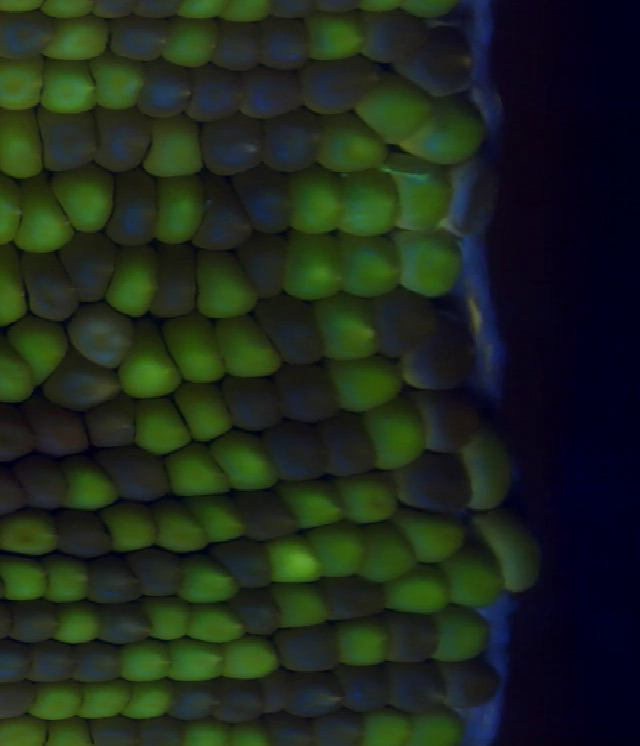fluorescent: (378, 163, 455, 226), (12, 175, 71, 255), (487, 513, 545, 591), (468, 424, 515, 517), (362, 79, 425, 145), (330, 173, 396, 236), (188, 250, 251, 316), (415, 101, 486, 159), (212, 433, 278, 491), (283, 242, 348, 298), (345, 233, 403, 295), (148, 113, 199, 181), (406, 514, 473, 565), (325, 360, 406, 402), (323, 298, 377, 360), (403, 233, 457, 295), (59, 166, 109, 231), (216, 313, 270, 373), (170, 321, 220, 385), (168, 450, 228, 500), (122, 333, 168, 397), (102, 502, 154, 558), (0, 331, 35, 413), (355, 529, 416, 576), (136, 397, 190, 450), (0, 108, 42, 176), (365, 410, 422, 459), (293, 172, 338, 234), (444, 553, 503, 600), (110, 249, 152, 313), (386, 573, 451, 614), (38, 56, 90, 107), (90, 60, 146, 107), (3, 510, 55, 559), (275, 582, 329, 629), (194, 497, 249, 543), (310, 530, 362, 578), (117, 636, 174, 679), (22, 318, 59, 384), (187, 387, 229, 445), (61, 458, 107, 510), (317, 124, 377, 163), (281, 485, 345, 521), (154, 176, 194, 233), (159, 505, 203, 556), (191, 558, 239, 604), (55, 18, 104, 63), (438, 610, 487, 655), (345, 478, 396, 521), (0, 556, 44, 605), (174, 640, 232, 676), (44, 558, 88, 604), (306, 18, 359, 56), (409, 711, 465, 746), (168, 21, 210, 66), (193, 604, 241, 643), (36, 682, 80, 723), (80, 685, 130, 721), (52, 602, 97, 642), (230, 640, 280, 676), (0, 65, 41, 108), (148, 597, 188, 640), (362, 710, 410, 745), (341, 626, 384, 665), (267, 539, 313, 575), (128, 681, 170, 718), (45, 716, 90, 746), (184, 720, 230, 746), (232, 721, 274, 746), (0, 718, 33, 746)
nonfluorescent: (65, 301, 132, 371), (400, 334, 477, 392), (407, 27, 480, 88), (259, 297, 325, 362), (39, 102, 102, 168), (402, 458, 471, 516), (62, 240, 122, 304), (264, 423, 333, 478), (154, 243, 199, 320), (102, 102, 151, 171), (204, 114, 268, 165), (377, 292, 430, 353), (420, 389, 475, 447), (306, 63, 373, 110), (436, 658, 496, 710), (278, 365, 338, 417), (238, 171, 290, 229), (330, 416, 378, 478), (87, 397, 141, 452), (268, 114, 322, 169), (222, 376, 281, 426), (238, 233, 284, 297), (188, 185, 236, 246), (104, 18, 170, 62), (386, 666, 446, 714), (29, 405, 90, 452), (358, 13, 420, 58), (0, 11, 59, 58), (112, 173, 154, 237), (241, 68, 300, 113), (29, 250, 68, 318), (49, 368, 115, 408), (336, 662, 386, 714), (88, 558, 142, 605), (103, 452, 162, 495), (333, 581, 391, 624), (386, 613, 439, 660), (212, 21, 264, 68), (239, 497, 299, 536), (187, 69, 238, 114), (277, 631, 341, 666), (22, 462, 65, 513), (10, 597, 58, 642), (264, 24, 312, 69), (145, 65, 187, 116), (167, 681, 216, 723), (216, 539, 261, 582), (32, 643, 81, 682), (257, 679, 307, 717), (267, 713, 324, 746), (57, 513, 109, 549), (316, 711, 368, 746), (141, 558, 184, 598), (80, 643, 122, 682), (307, 671, 342, 717), (216, 685, 259, 721), (139, 716, 190, 746), (91, 716, 139, 746), (107, 613, 158, 640), (0, 681, 36, 717), (0, 643, 33, 681), (239, 598, 278, 630)
